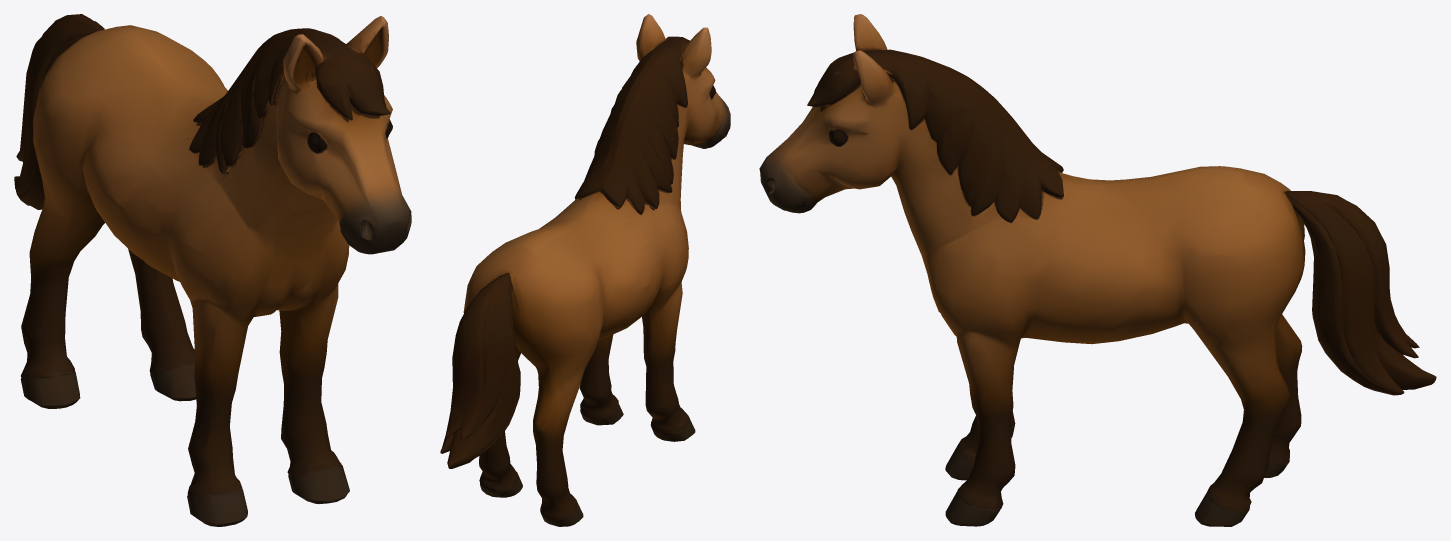
Rendered from ngua.fbx.
3 views of the same model, side by side, from view 1: azimuth 30°, elevation 25°; view 2: azimuth 150°, elevation 25°; view 3: azimuth 270°, elevation 25° (orthographic). The views are drawn at different scales.
Visible parts, largest first — view 1: Horse_10k; view 2: Horse_10k; view 3: Horse_10k.
Part boxes in pixels (x1,y1,x2,y2): Horse_10k: [14, 14, 411, 526]; Horse_10k: [440, 14, 730, 526]; Horse_10k: [759, 14, 1436, 526].
Size of the model in its own units: 9.35 by 26.77 by 35.11.
1 material, 1 textured.
